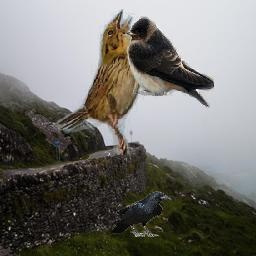Crow: (112, 191, 172, 237)
Sparrow: (53, 9, 145, 155)
Swallow: (126, 16, 215, 108)
